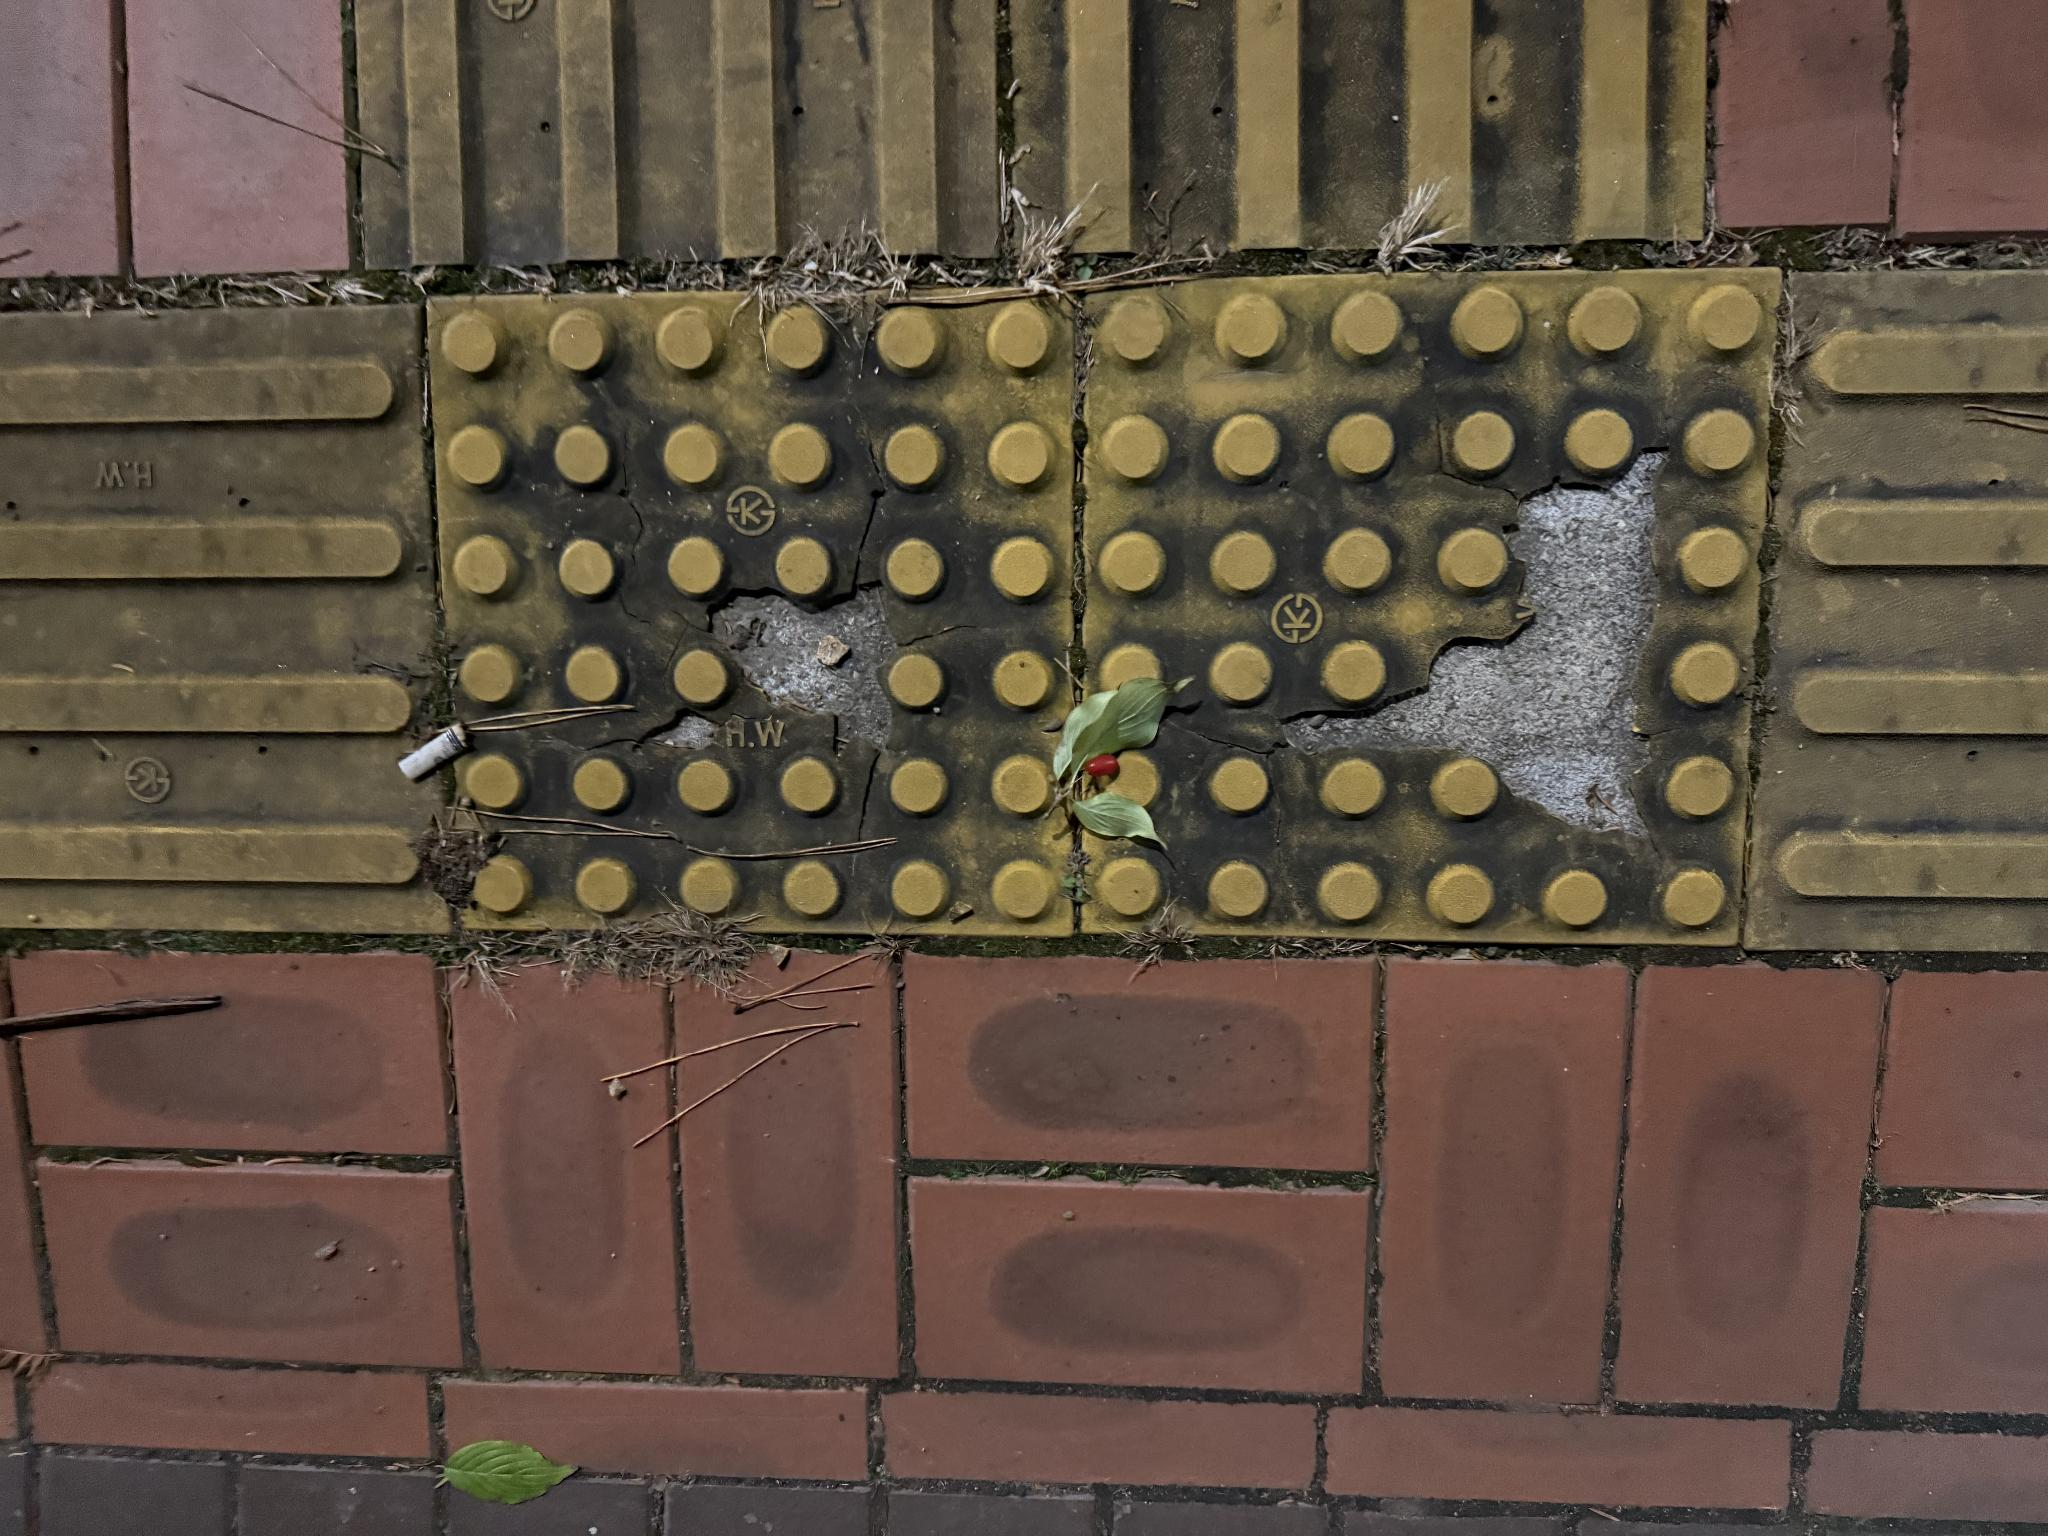Stop block broken: (613, 463, 1242, 1066), (605, 1084, 1263, 1536)
